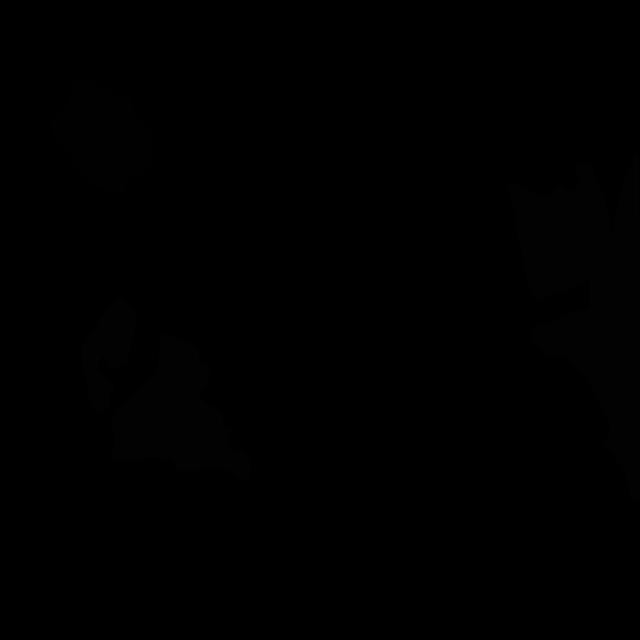cardboard: (531, 233, 640, 504), (110, 333, 250, 481), (507, 161, 614, 300), (80, 297, 138, 411), (612, 154, 640, 279)
rigid_plastic: (50, 80, 154, 193)
